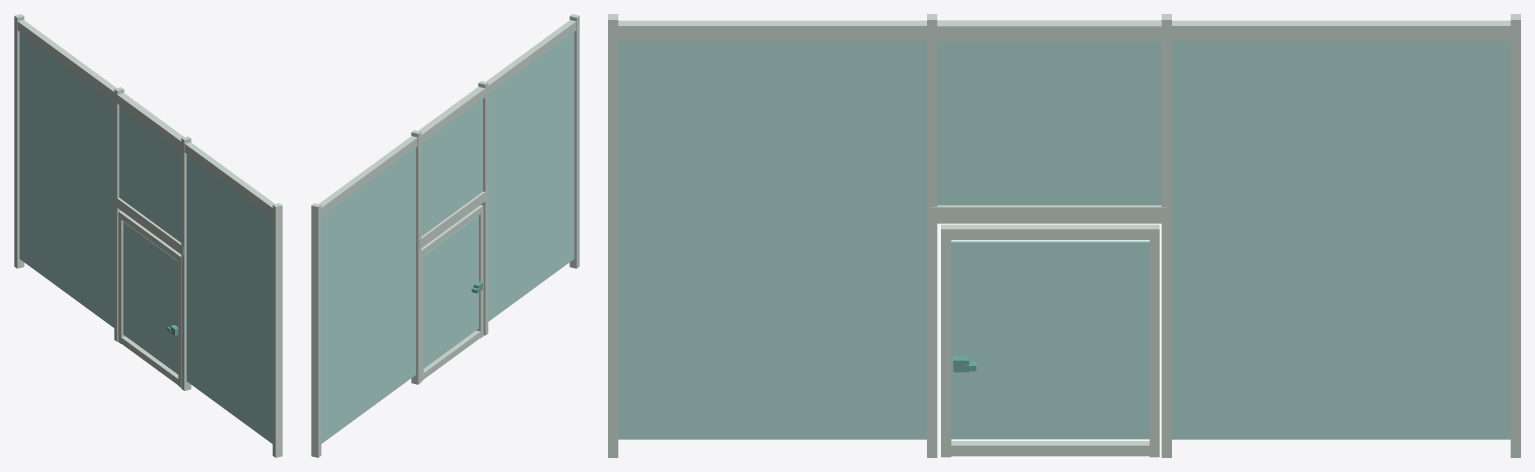
File: s7-pass2-g00l-glass-partition-door.glb
The picture shows the model from 3 angles, left to right: view 1: azimuth 30°, elevation 25°; view 2: azimuth 150°, elevation 25°; view 3: azimuth 270°, elevation 25°; orthographic projection. The views are drawn at different scales.
Visible parts, largest first — view 1: G00L.fixed-glass-room-wall, G00L.door-leaf-and-handle; view 2: G00L.fixed-glass-room-wall, G00L.door-leaf-and-handle; view 3: G00L.fixed-glass-room-wall, G00L.door-leaf-and-handle.
Boxes of the visible parts, bbox=[...] form: G00L.fixed-glass-room-wall: bbox=[14, 14, 282, 457]; G00L.door-leaf-and-handle: bbox=[118, 211, 181, 387]; G00L.fixed-glass-room-wall: bbox=[311, 14, 579, 457]; G00L.door-leaf-and-handle: bbox=[421, 205, 483, 381]; G00L.fixed-glass-room-wall: bbox=[608, 14, 1520, 457]; G00L.door-leaf-and-handle: bbox=[941, 224, 1159, 457].
Bounding box in the file's own units: 0.26 × 4.82 × 9.1.
